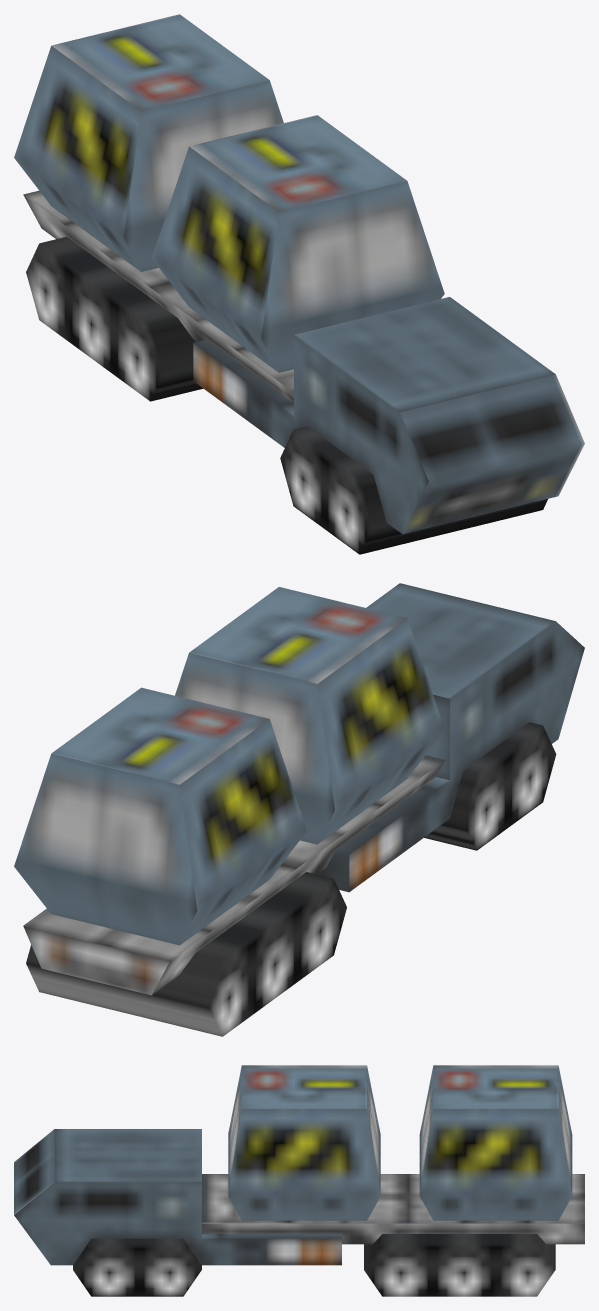
The model's file is ordnancetruckprop.glb.
3 renders of one model, top to bottom at view 1: azimuth 30°, elevation 25°; view 2: azimuth 150°, elevation 25°; view 3: azimuth 270°, elevation 25°, orthographic. The views are drawn at different scales.
Visible parts, largest first — view 1: ordnancetruckprop; view 2: ordnancetruckprop; view 3: ordnancetruckprop.
Boxes of the visible parts, x1,y1,x2,y2 form: ordnancetruckprop: (14, 14, 584, 554); ordnancetruckprop: (14, 583, 584, 1036); ordnancetruckprop: (14, 1065, 584, 1296).
Bounding box in the file's own units: 3 × 4.01 × 11.62.
1 material, 1 textured.
